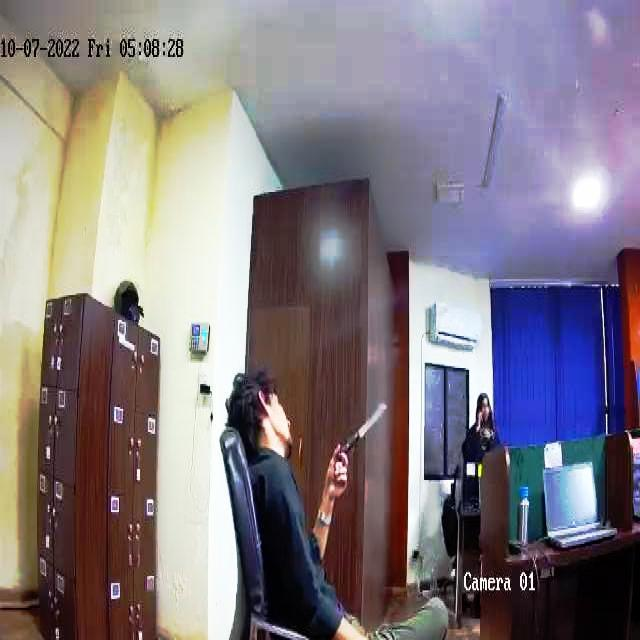Knife: (347, 397, 398, 473)
